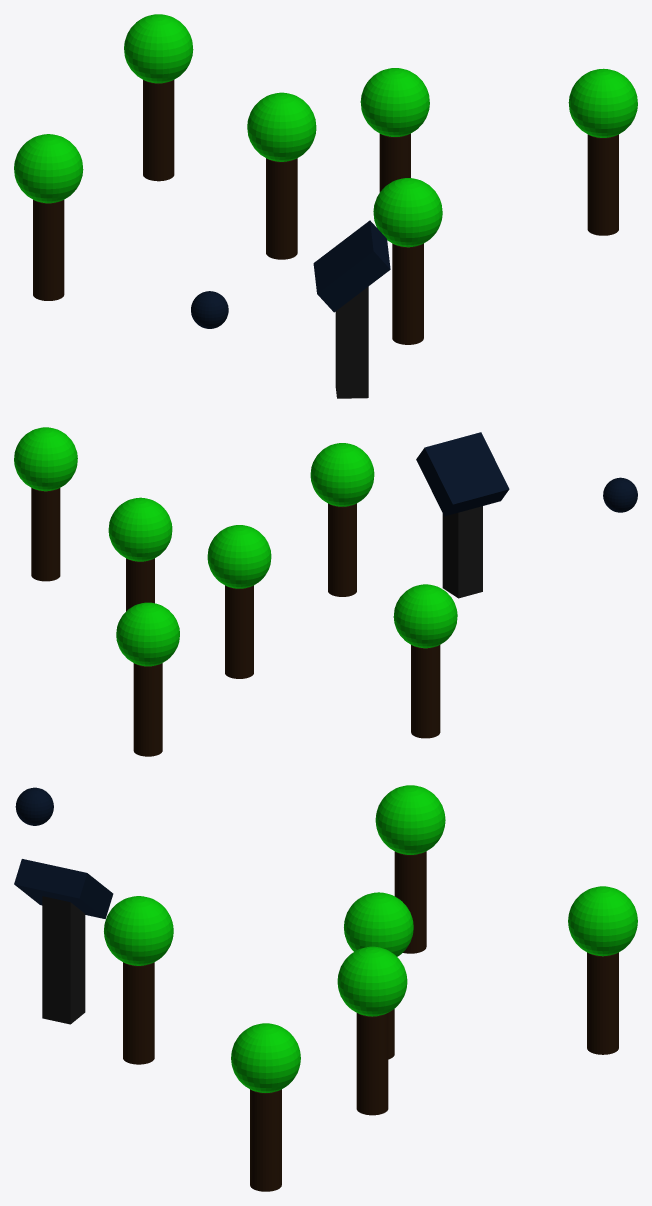
File: exercise20025.obj
3 renders of one model, top to bottom at view 1: azimuth 30°, elevation 25°; view 2: azimuth 150°, elevation 25°; view 3: azimuth 270°, elevation 25°, orthographic. The views are drawn at different scales.
Visible parts, largest first — view 1: Cube.001, Sphere.005, Sphere.002, Sphere.006, Sphere, Sphere.003, Sphere.004, Cube, Cylinder.002, Cylinder.003, Cylinder.005, Cylinder.004 (+4 smaller); view 2: Cube.001, Cube, Sphere, Sphere.005, Sphere.006, Sphere.003, Sphere.004, Sphere.002, Cylinder.003, Cylinder.005, Cylinder.006, Cylinder.002 (+4 smaller); view 3: Cube, Sphere, Sphere.006, Sphere.004, Sphere.005, Sphere.003, Sphere.002, Cube.001, Cylinder.004, Cylinder.003, Cylinder.005, Cylinder (+3 smaller).
Boxes of the visible parts, box(x1,y1,x2,y2) form: Cube.001: box(313, 220, 390, 312); Sphere.005: box(124, 14, 193, 83); Sphere.002: box(247, 92, 316, 161); Sphere.006: box(14, 134, 83, 203); Sphere: box(360, 68, 429, 136); Sphere.003: box(568, 68, 637, 137); Sphere.004: box(373, 178, 442, 247); Cube: box(335, 286, 368, 398); Cylinder.002: box(266, 158, 297, 259); Cylinder.003: box(587, 134, 618, 235); Cylinder.005: box(143, 80, 174, 181); Cylinder.004: box(392, 243, 423, 344); Cube.001: box(416, 432, 509, 516); Cube: box(442, 506, 482, 598); Sphere: box(108, 497, 172, 561); Sphere.005: box(116, 602, 179, 666); Sphere.006: box(393, 584, 457, 648); Sphere.003: box(14, 427, 77, 491); Sphere.004: box(310, 443, 374, 506); Sphere.002: box(207, 525, 271, 588); Cylinder.003: box(31, 488, 60, 581); Cylinder.005: box(133, 663, 162, 756); Cylinder.006: box(411, 645, 440, 738); Cylinder.002: box(225, 585, 253, 678); Cube: box(42, 896, 85, 1024); Sphere: box(337, 946, 407, 1016); Sphere.006: box(375, 785, 445, 854); Sphere.004: box(104, 896, 173, 965); Sphere.005: box(568, 886, 637, 956); Sphere.003: box(231, 1023, 300, 1092); Sphere.002: box(344, 892, 413, 956); Cube.001: box(14, 859, 113, 919); Cylinder.004: box(123, 962, 154, 1064); Cylinder.003: box(250, 1089, 281, 1191); Cylinder.005: box(587, 952, 618, 1054); Cylinder: box(356, 1013, 388, 1114).
Size of what is drawn, in the model's own units: 40.53 by 11.23 by 39.13.
